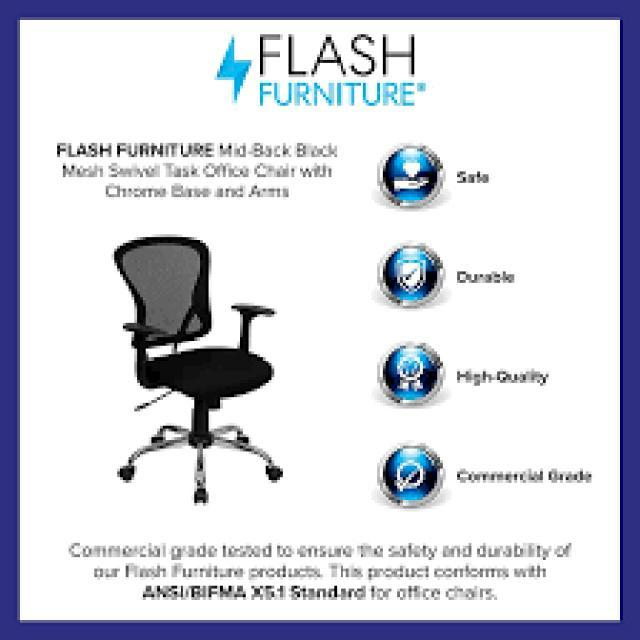chair: (87, 225, 307, 531)
